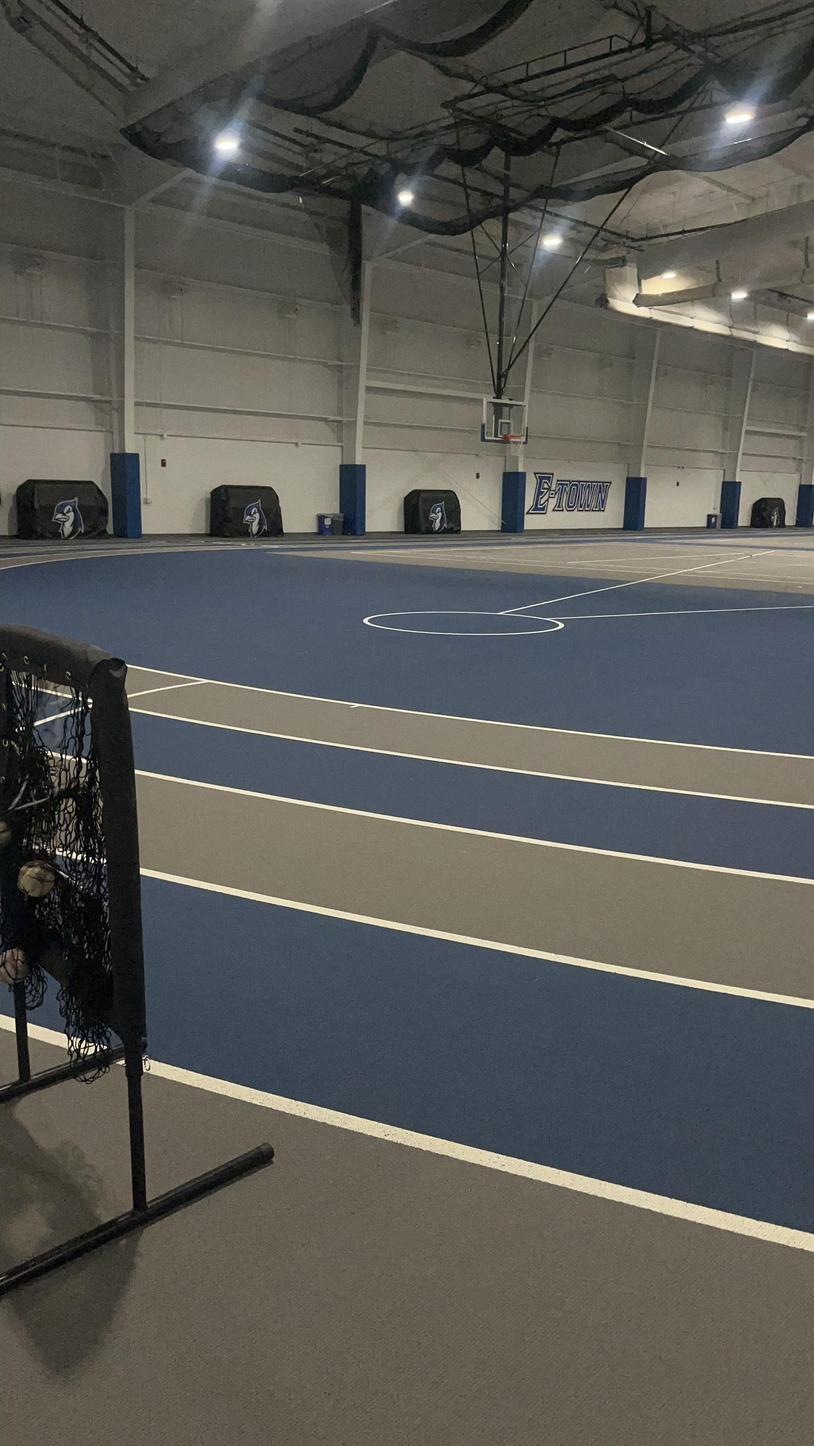Baseball: (18, 859, 62, 900), (0, 947, 31, 986)
